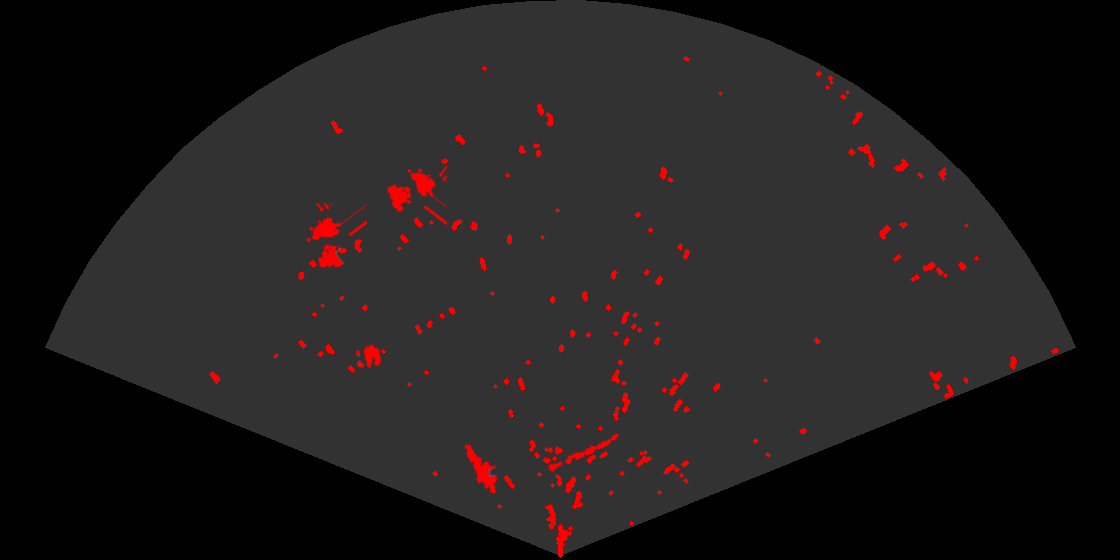ball: (354, 343, 383, 370)
cage: (305, 203, 367, 270), (385, 163, 447, 227)
chain: (543, 432, 621, 474)
frogman: (463, 442, 499, 493)
